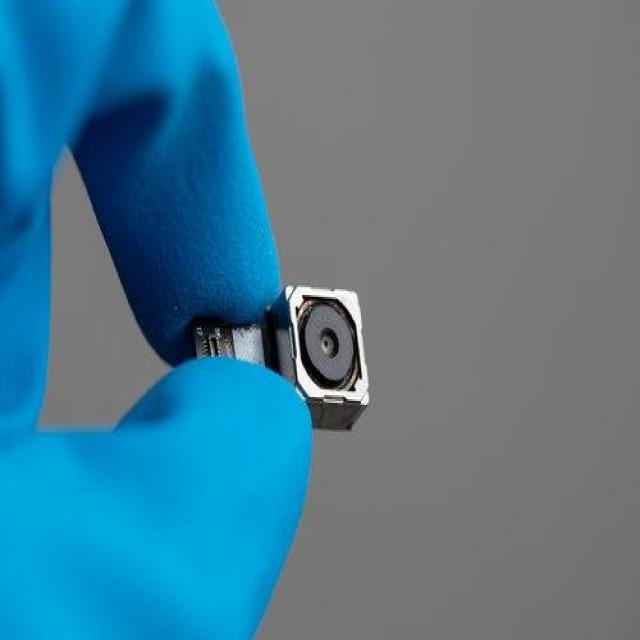hidden camera: (320, 332, 337, 355)
